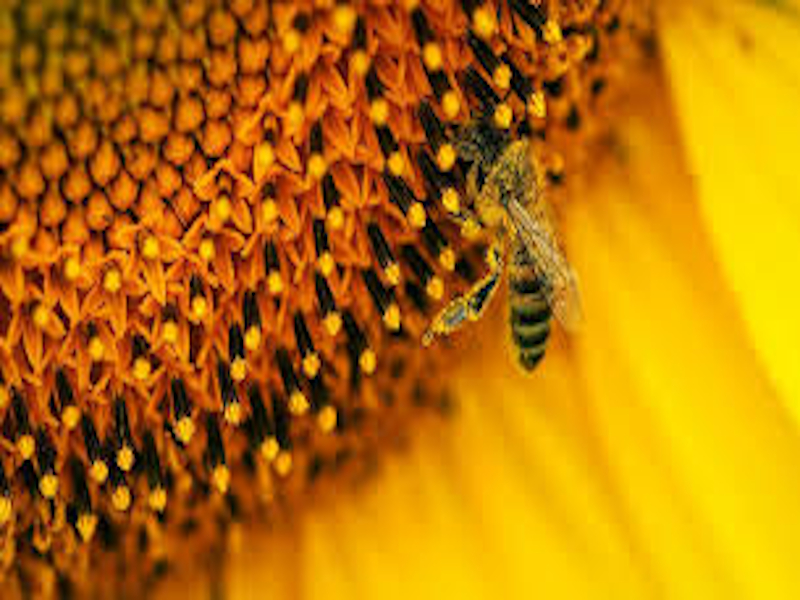abeja: (423, 143, 610, 411)
